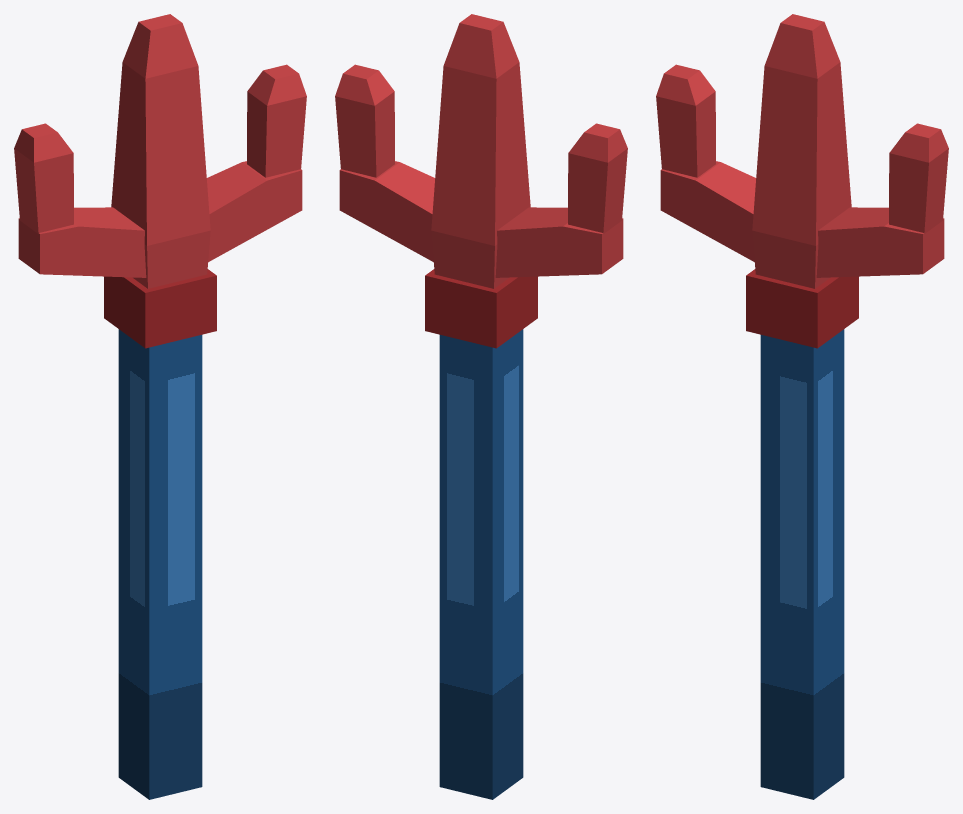
Rendered from coral_blade.obj.
The picture shows the model from 3 angles, left to right: view 1: azimuth 30°, elevation 25°; view 2: azimuth 150°, elevation 25°; view 3: azimuth 330°, elevation 25°; orthographic projection.
Visible parts, largest first — view 1: shaft, seated_centre_prong, left_fork_bridge, socket, right_fork_bridge, right_fork_prong, left_fork_prong; view 2: shaft, seated_centre_prong, left_fork_bridge, socket, right_fork_bridge, right_fork_prong, left_fork_prong; view 3: shaft, seated_centre_prong, right_fork_bridge, socket, left_fork_bridge, left_fork_prong, right_fork_prong.
Part boxes in pixels (left/top/right/bottom): shaft: left=118, top=329, right=202, bottom=799; seated_centre_prong: left=111, top=14, right=210, bottom=288; left_fork_bridge: left=18, top=207, right=146, bottom=277; socket: left=104, top=269, right=216, bottom=348; right_fork_bridge: left=206, top=161, right=302, bottom=261; right_fork_prong: left=247, top=64, right=306, bottom=177; left_fork_prong: left=14, top=123, right=73, bottom=233; shaft: left=439, top=329, right=523, bottom=799; seated_centre_prong: left=431, top=14, right=530, bottom=288; left_fork_bridge: left=495, top=207, right=623, bottom=277; socket: left=425, top=269, right=537, bottom=348; right_fork_bridge: left=339, top=161, right=435, bottom=261; right_fork_prong: left=335, top=64, right=394, bottom=177; left_fork_prong: left=568, top=123, right=627, bottom=233; shaft: left=760, top=329, right=844, bottom=799; seated_centre_prong: left=752, top=14, right=851, bottom=288; right_fork_bridge: left=816, top=207, right=944, bottom=277; socket: left=746, top=269, right=858, bottom=348; left_fork_bridge: left=660, top=161, right=756, bottom=261; left_fork_prong: left=656, top=64, right=715, bottom=177; right_fork_prong: left=889, top=123, right=948, bottom=233.
Bounding box in the file's own units: 0.6437 × 1.71 × 0.1688.
